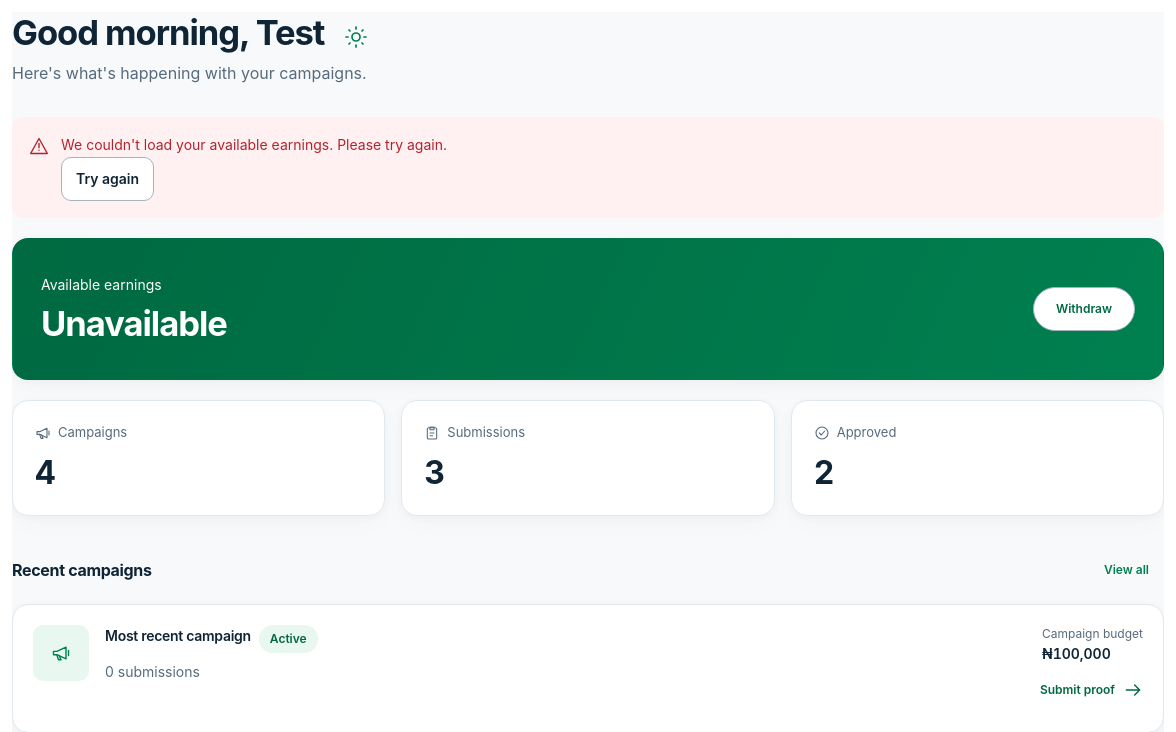
it: failed wallet data is unavailable rather than zero and retry loads the actual balance
This screenshot has width=1176, height=732.
Click the button "Try again". click: (108, 179)
box: [61, 157, 154, 201]
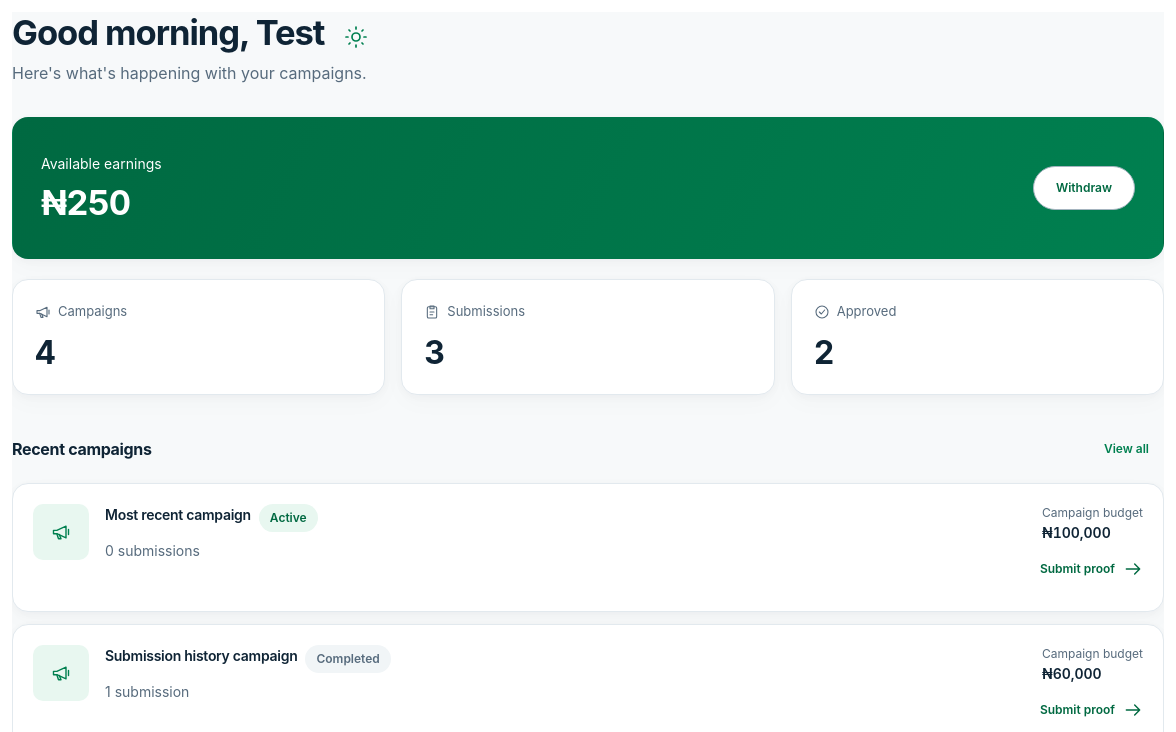
Result: the message "We couldn't load your available earnings. Please try again. Try again" is gone
